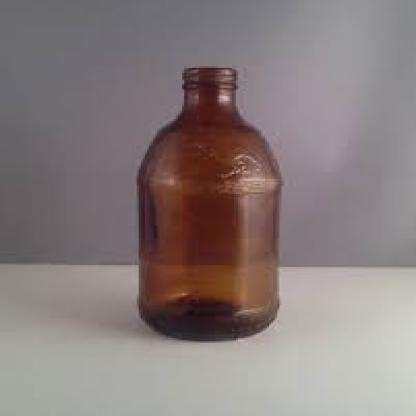trash: (138, 67, 280, 339)
